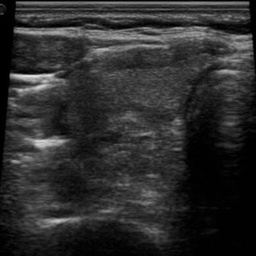mass: (99, 114, 182, 199)
